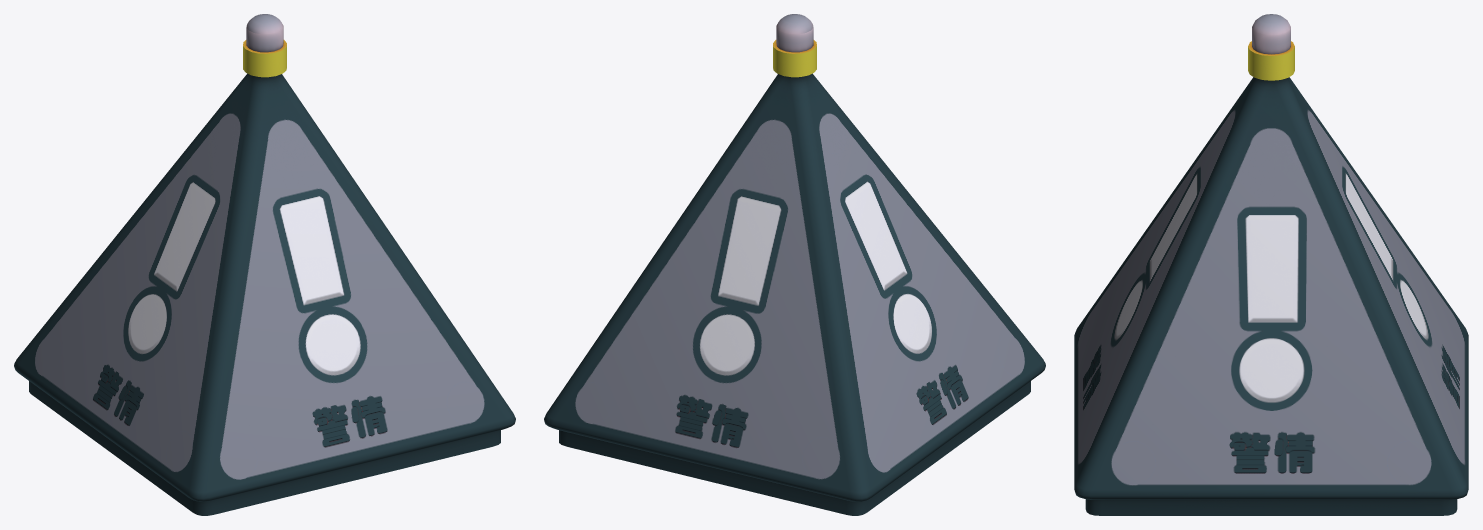
The model's file is JingQingYuanSu_huise.34c4d87.glb.
3 renders of one model, left to right at view 1: azimuth 30°, elevation 25°; view 2: azimuth 150°, elevation 25°; view 3: azimuth 270°, elevation 25°, orthographic. The views are drawn at different scales.
Visible parts, largest first — view 1: 警情元素; view 2: 警情元素; view 3: 警情元素.
Boxes of the visible parts, <box> form: 警情元素: <box>14,14,515,515</box>; 警情元素: <box>544,14,1045,515</box>; 警情元素: <box>1074,14,1468,515</box>.
Size of the model in its own units: 0.9766 by 1.15 by 0.9766.
Materials: 1 (1 with a texture image).
